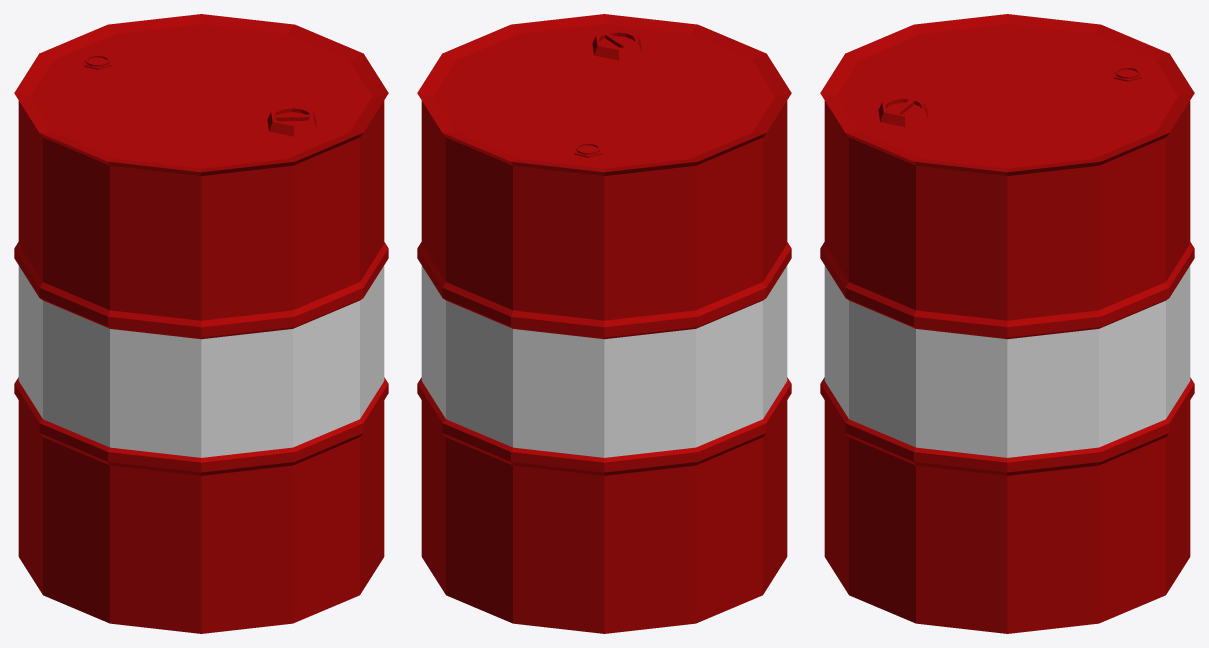
The model's file is LP__Barrel _01.fbx.
3 views of the same model, side by side, from view 1: azimuth 30°, elevation 25°; view 2: azimuth 150°, elevation 25°; view 3: azimuth 270°, elevation 25° (orthographic).
Visible parts, largest first — view 1: LP__Barrel _01; view 2: LP__Barrel _01; view 3: LP__Barrel _01.
Boxes of the visible parts, x1,y1,x2,y2 form: LP__Barrel _01: [14, 14, 388, 633]; LP__Barrel _01: [417, 14, 791, 633]; LP__Barrel _01: [820, 14, 1194, 633].
Bounding box in the file's own units: 0.6447 × 0.8904 × 0.6447.
